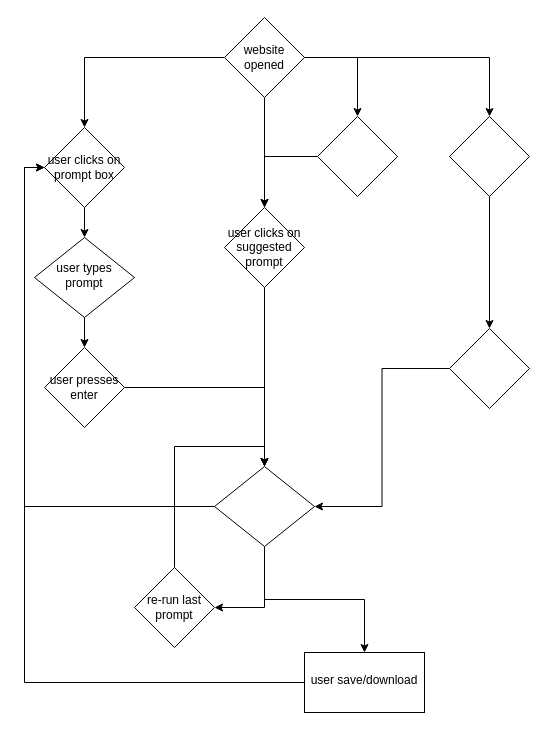
This 547x730 diagram has some shape labels left out. Here are the shapes that lost their labels. From the top down, the centre of each, then its label:
At point (357, 156): "user clicks on shuffle suggested prompt".
At point (489, 156): "user clicks on random".
At point (264, 506): "Image generated".
